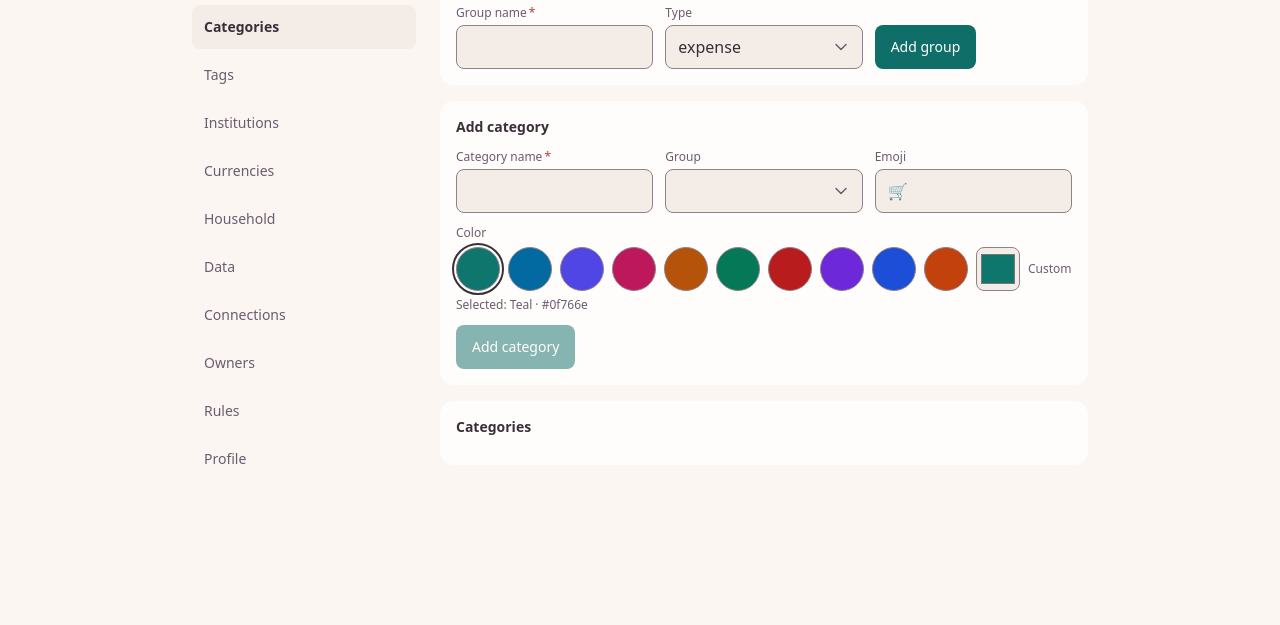
Test: Settings → Data → what the import did › reads an all-matched import as nothing new
Click the tab with test id "settings-tab-data": (304, 267) [192,245,416,289]
(page scrolled)
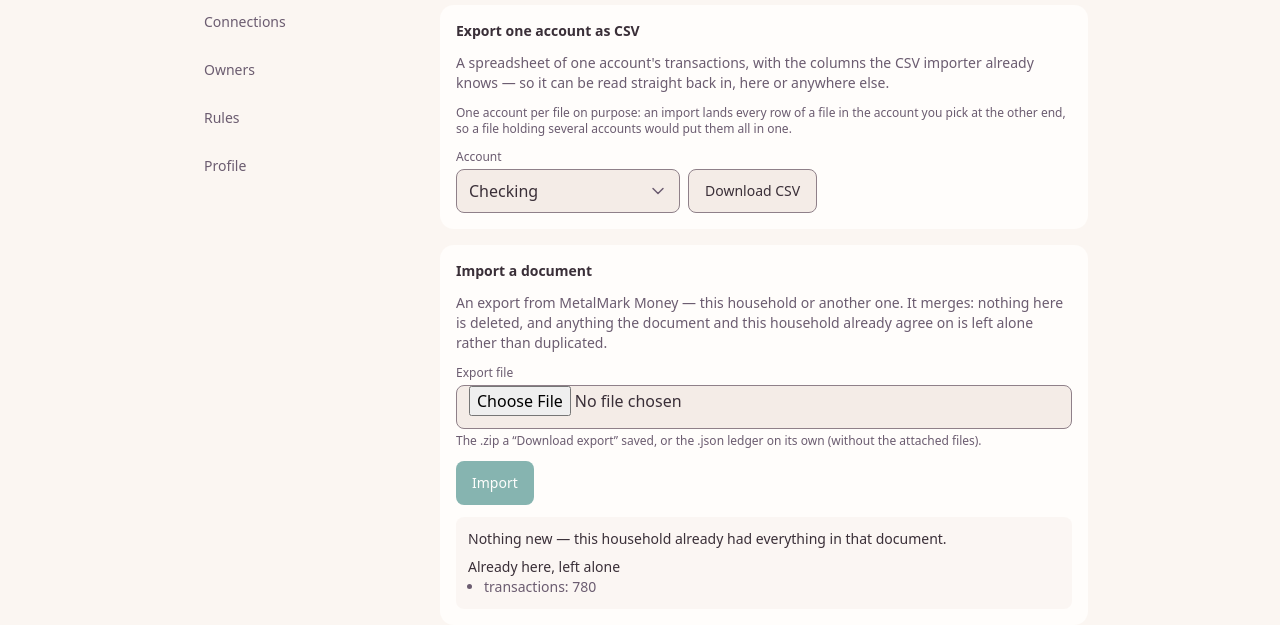
Check: the text with test id "import-nothing-new" is shown, box [468,529,947,548]
Check: the list with test id "import-matched" reads "transactions: 780", box [484,577,596,596]
